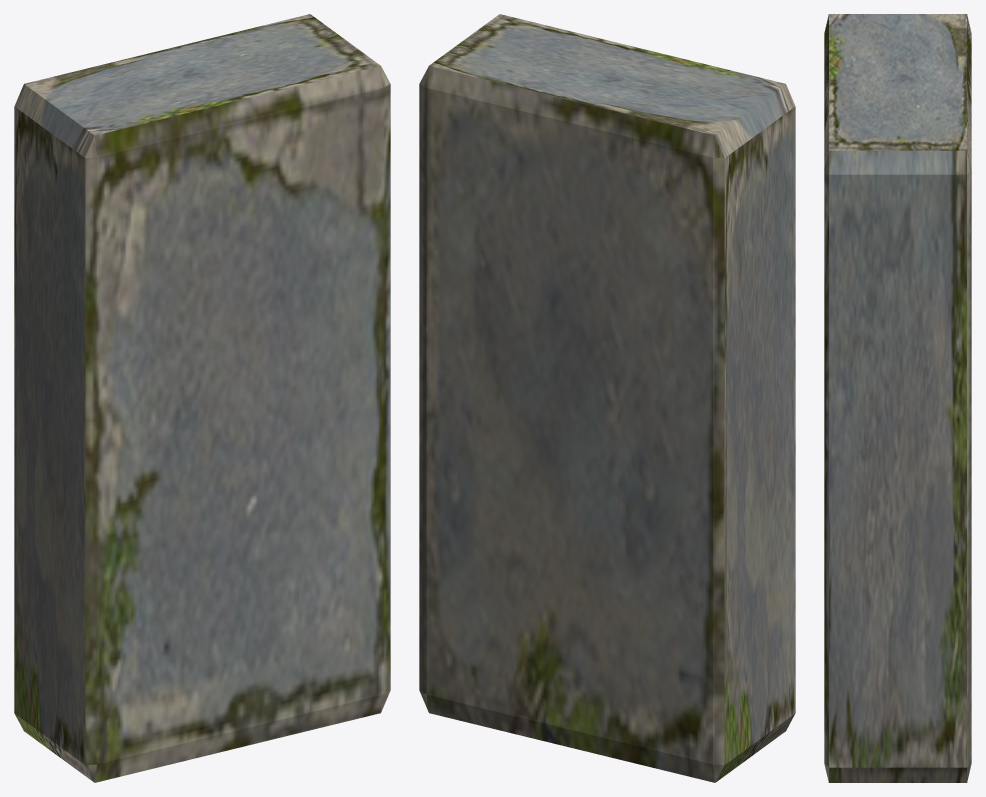
File: pave.gltf
3 views of the same model, side by side, from view 1: azimuth 30°, elevation 25°; view 2: azimuth 150°, elevation 25°; view 3: azimuth 270°, elevation 25° (orthographic). The views are drawn at different scales.
Visible parts, largest first — view 1: Pave; view 2: Pave; view 3: Pave.
Part boxes in pixels (x1,y1,x2,y2): Pave: (14,14,390,782); Pave: (419,14,795,782); Pave: (824,14,971,782).
Size of the model in its own units: 0.9874 by 2 by 0.4227.
Materials: 1 (1 with a texture image).
